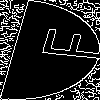F: (25, 25, 100, 63)
